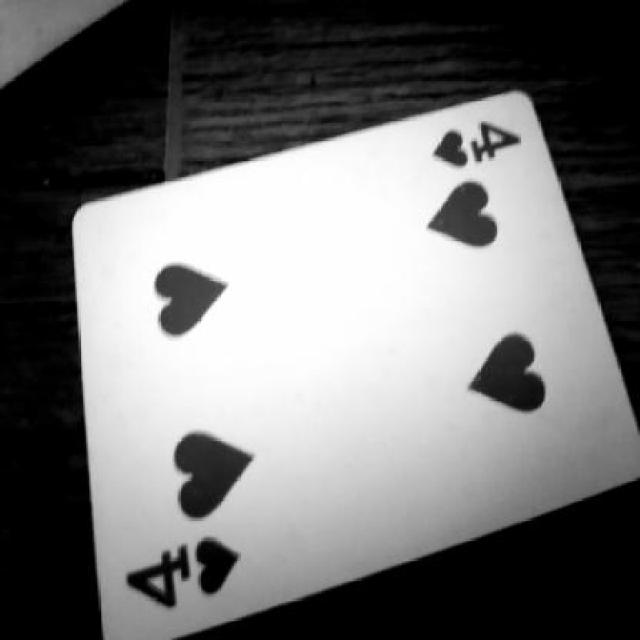4H: (122, 540, 276, 623), (426, 94, 528, 188)
